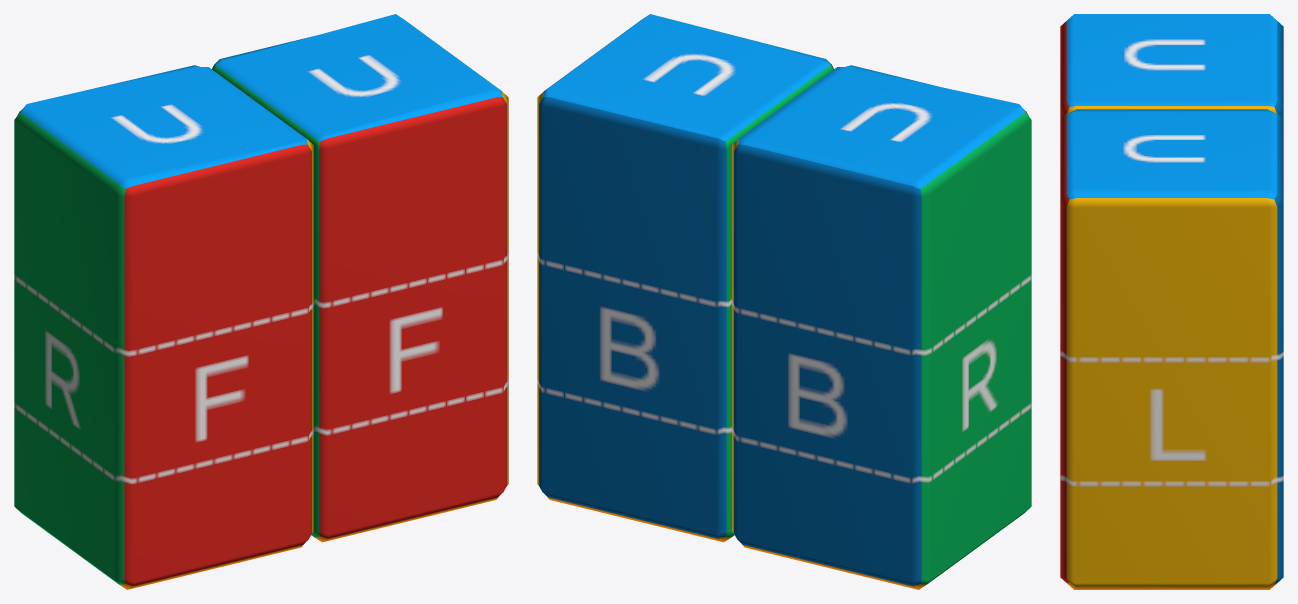
File: Blocky_Legs.glb
The picture shows the model from 3 angles, left to right: view 1: azimuth 30°, elevation 25°; view 2: azimuth 150°, elevation 25°; view 3: azimuth 270°, elevation 25°; orthographic projection. The views are drawn at different scales.
Parts seen in each view (by area): view 1: Cube.016; view 2: Cube.016; view 3: Cube.016.
Boxes of the visible parts, x1=… form: Cube.016: x1=14, y1=14, x2=508, y2=589; Cube.016: x1=537, y1=14, x2=1031, y2=589; Cube.016: x1=1060, y1=14, x2=1283, y2=589.
Size of the model in its own units: 2.02 by 2.02 by 1.02.
1 material, 1 textured.
